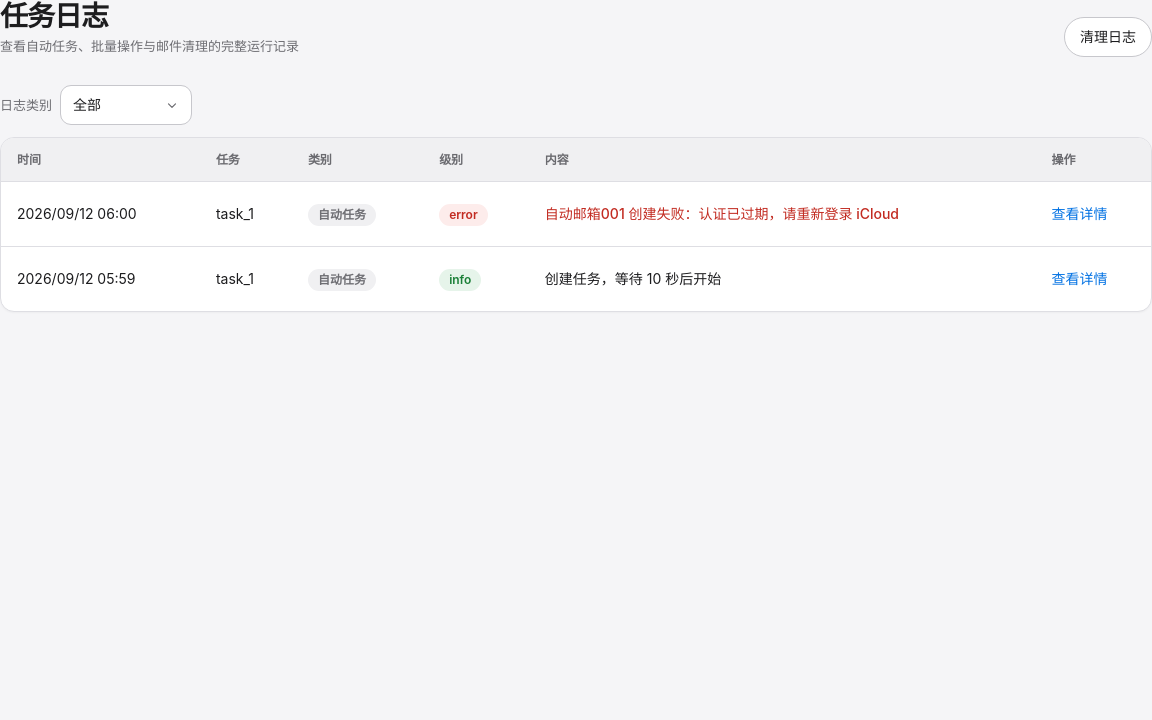
Test: LogsPage › 普通日志也可查看完整详情
The width and height of the screenshot is (1152, 720).
Expected: the text "创建任务，等待 10 秒后开始" is shown, [529, 247, 1036, 311]
What coordinates should you click on to do the following:
click the button with aria-label "查看普通日志详情"
I would click on:
 (1080, 279)
Its box is [1052, 259, 1108, 299].
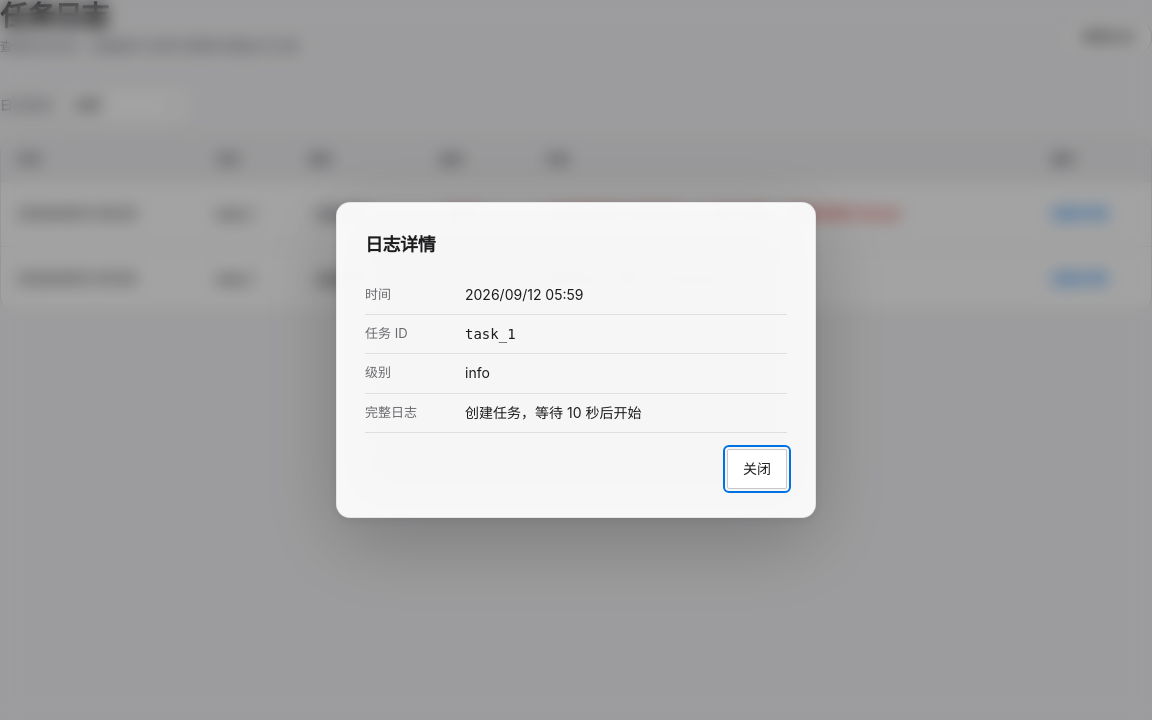
Expected: the dialog "日志详情" shows "创建任务，等待 10 秒后开始", [465, 404, 641, 421]
